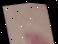plaque psoriasis: (1, 0, 36, 44), (22, 21, 55, 44), (26, 2, 49, 17), (11, 44, 25, 44)
